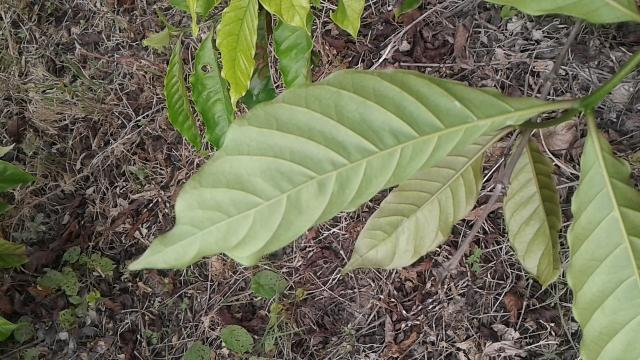healthy: (128, 72, 556, 268)
